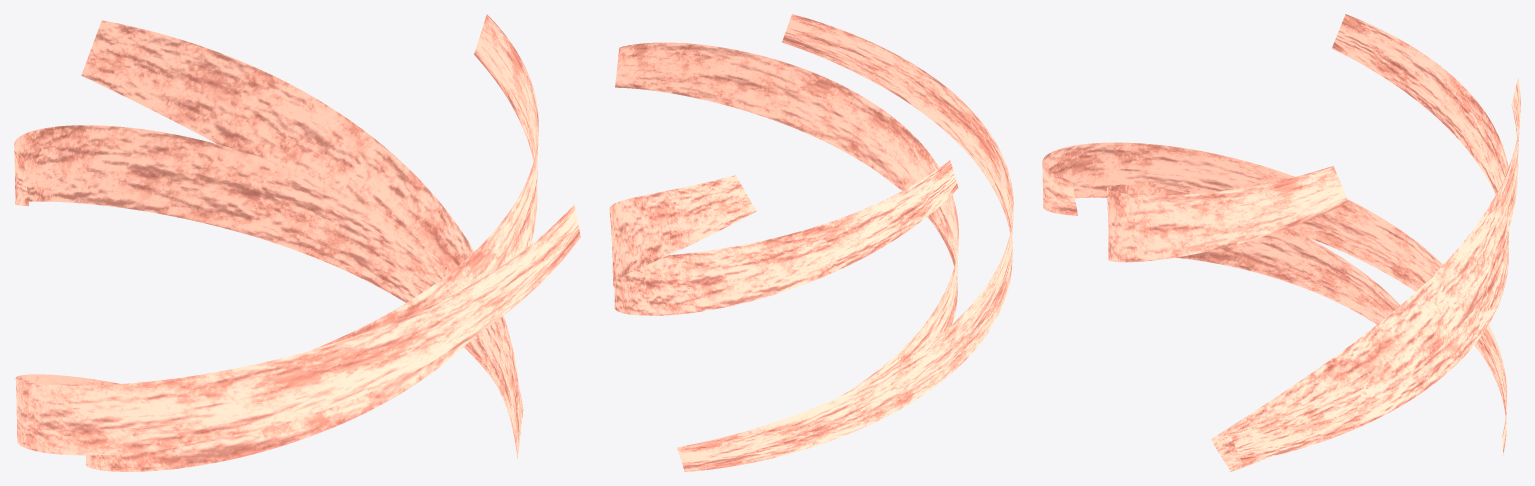
Rendered from devil_wisps_3.glb.
3 renders of one model, left to right at view 1: azimuth 30°, elevation 25°; view 2: azimuth 150°, elevation 25°; view 3: azimuth 270°, elevation 25°, orthographic. The views are drawn at different scales.
Parts seen in each view (by area): view 1: devil_wisps_3; view 2: devil_wisps_3; view 3: devil_wisps_3.
Boxes of the visible parts, x1,y1,x2,y2 form: devil_wisps_3: (14,14,580,471); devil_wisps_3: (609,14,1013,471); devil_wisps_3: (1042,14,1520,471).
Size of the model in its own units: 14.92 by 13.81 by 16.32.
1 material, 1 textured.
